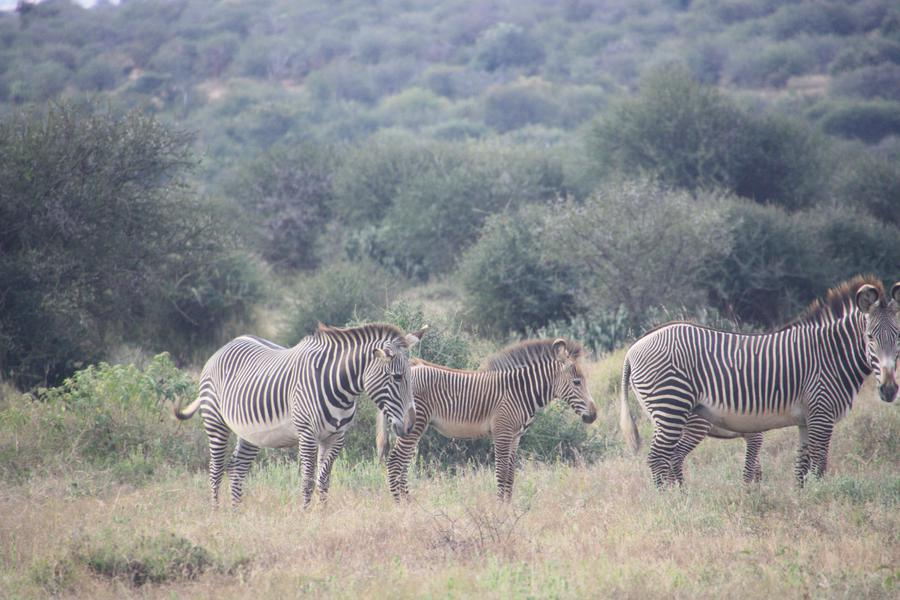zebra_grevys: (628, 317, 836, 425)
